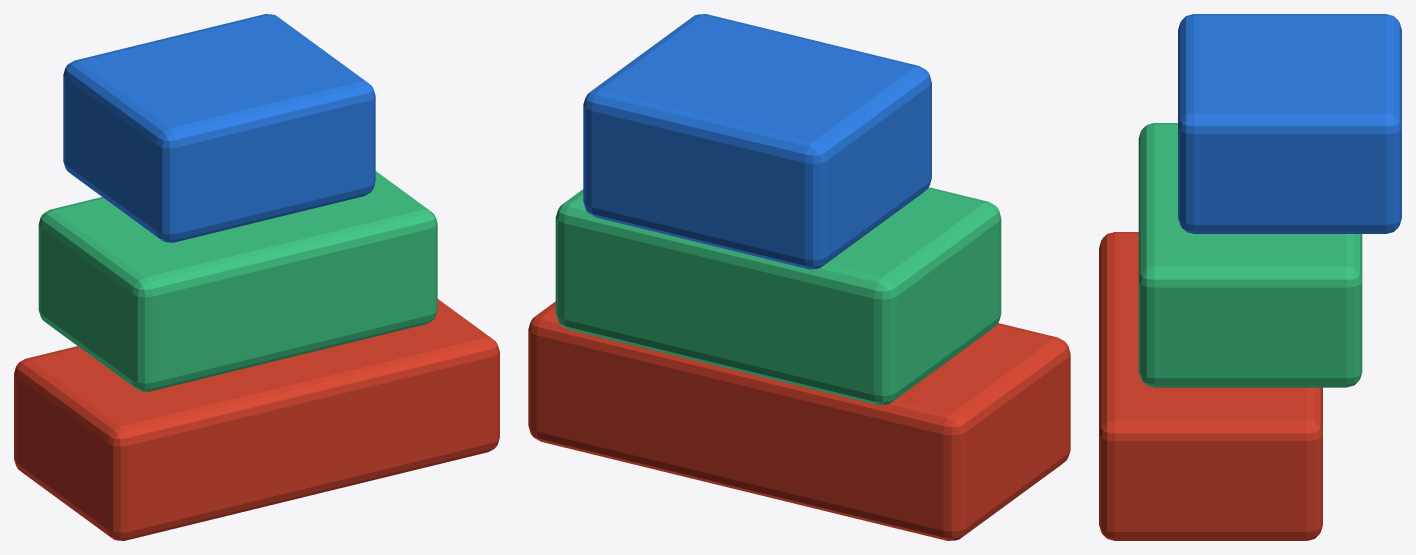
The model's file is bootstrap.glb.
3 renders of one model, left to right at view 1: azimuth 30°, elevation 25°; view 2: azimuth 150°, elevation 25°; view 3: azimuth 270°, elevation 25°, orthographic. The views are drawn at different scales.
Parts seen in each view (by area): view 1: BootstrapBevel_0, BootstrapBevel_1, BootstrapBevel_2; view 2: BootstrapBevel_0, BootstrapBevel_2, BootstrapBevel_1; view 3: BootstrapBevel_2, BootstrapBevel_0, BootstrapBevel_1.
Boxes of the visible parts, x1=… form: BootstrapBevel_0: x1=14, y1=299, x2=499, y2=540; BootstrapBevel_1: x1=38, y1=171, x2=437, y2=391; BootstrapBevel_2: x1=63, y1=14, x2=375, y2=242; BootstrapBevel_0: x1=528, y1=301, x2=1070, y2=540; BootstrapBevel_2: x1=583, y1=14, x2=931, y2=269; BootstrapBevel_1: x1=555, y1=187, x2=1001, y2=405; BootstrapBevel_2: x1=1178, y1=14, x2=1401, y2=233; BootstrapBevel_0: x1=1099, y1=232, x2=1322, y2=540; BootstrapBevel_1: x1=1138, y1=123, x2=1362, y2=387.
Bounding box in the file's own units: 1.8 × 1.6 × 1.15.
